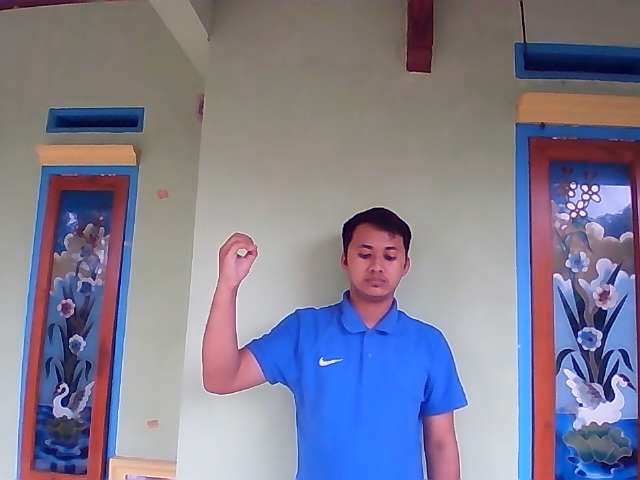O: (217, 231, 258, 284)
